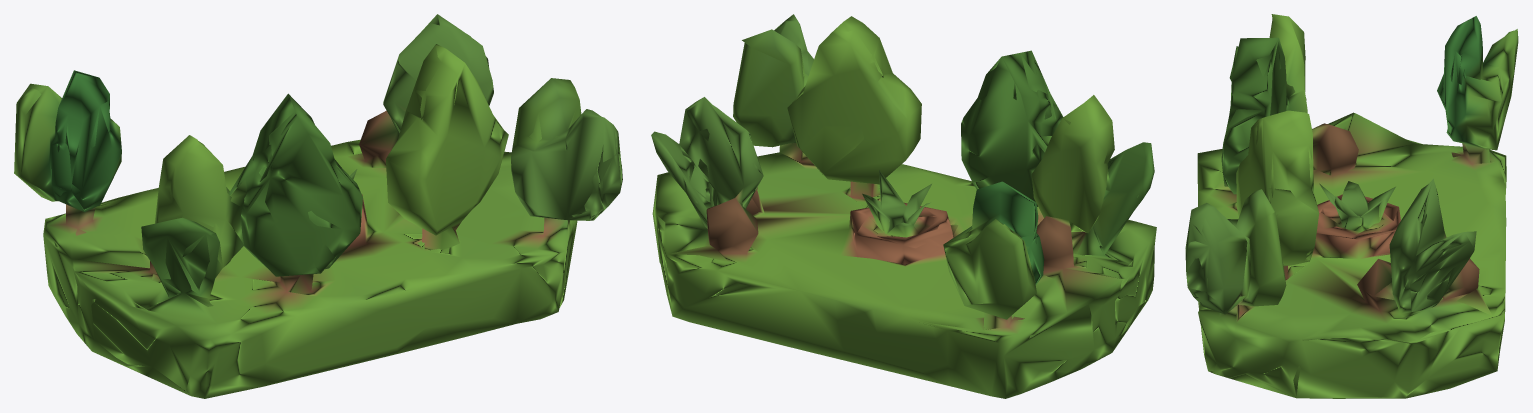
File: gen3d-garden-lod0.glb
3 views of the same model, side by side, from view 1: azimuth 30°, elevation 25°; view 2: azimuth 150°, elevation 25°; view 3: azimuth 270°, elevation 25° (orthographic). The views are drawn at different scales.
Visible parts, largest first — view 1: part_0; view 2: part_0; view 3: part_0.
Boxes of the visible parts, x1,y1,x2,y2 form: part_0: (14, 14, 622, 398); part_0: (651, 14, 1156, 398); part_0: (1185, 14, 1518, 398).
Bounding box in the file's own units: 2.02 × 0.9936 × 1.28.
